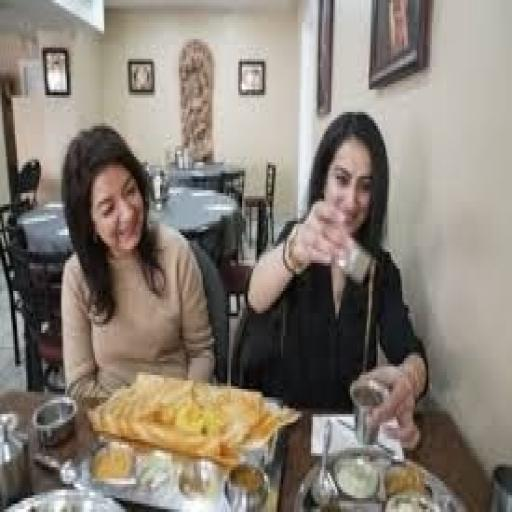eating: (56, 106, 432, 450)
